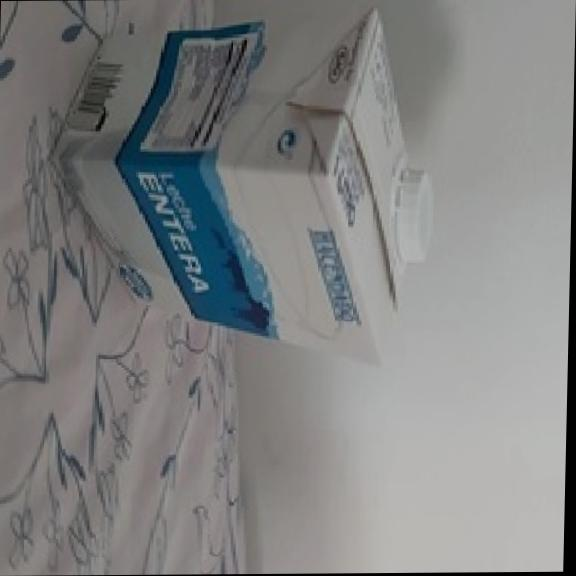Kertas: (56, 13, 405, 362), (316, 21, 329, 28), (318, 28, 323, 36)
